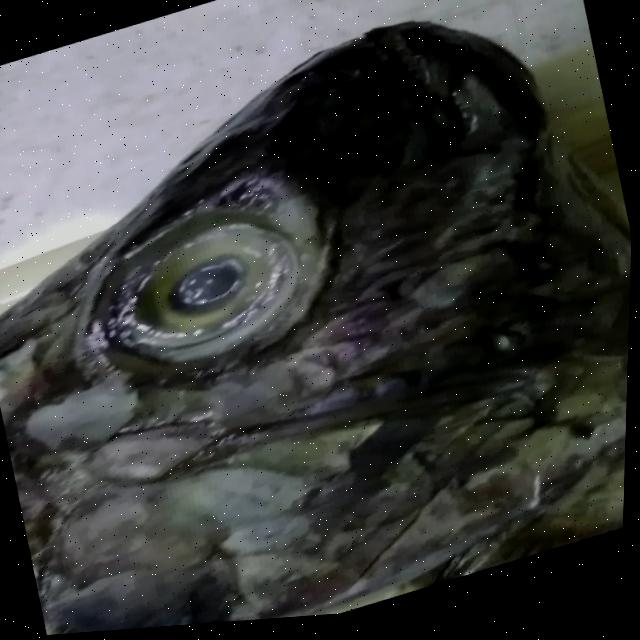Non-Fresh: (77, 182, 358, 411)
